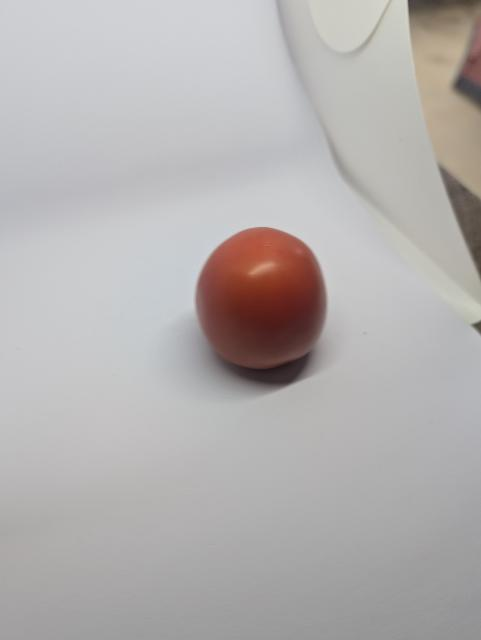red: (178, 225, 356, 408)
